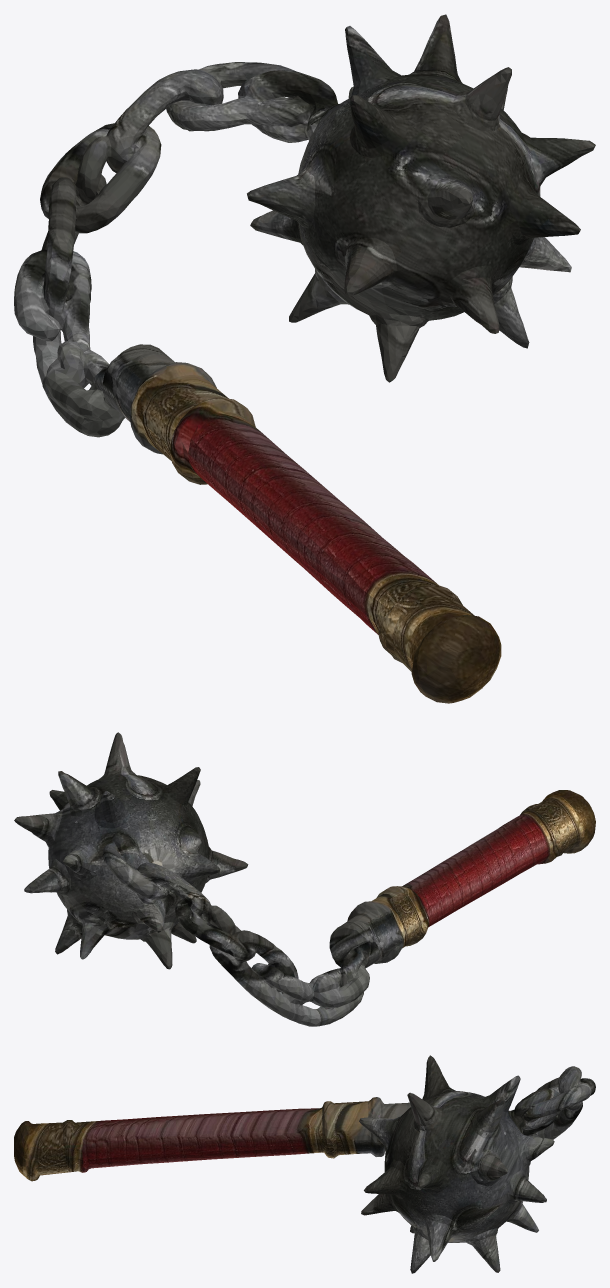
File: flail.glb
The picture shows the model from 3 angles, top to bottom: view 1: azimuth 30°, elevation 25°; view 2: azimuth 150°, elevation 25°; view 3: azimuth 270°, elevation 25°; orthographic projection. The views are drawn at different scales.
Parts seen in each view (by area): view 1: geometry_0; view 2: geometry_0; view 3: geometry_0.
Part boxes in pixels (x1=…): geometry_0: x1=14, y1=14, x2=595, y2=703; geometry_0: x1=14, y1=732, x2=595, y2=1026; geometry_0: x1=14, y1=1055, x2=595, y2=1273.
Bounding box in the file's own units: 1.2 × 0.7278 × 1.98.
Materials: 1 (1 with a texture image).
